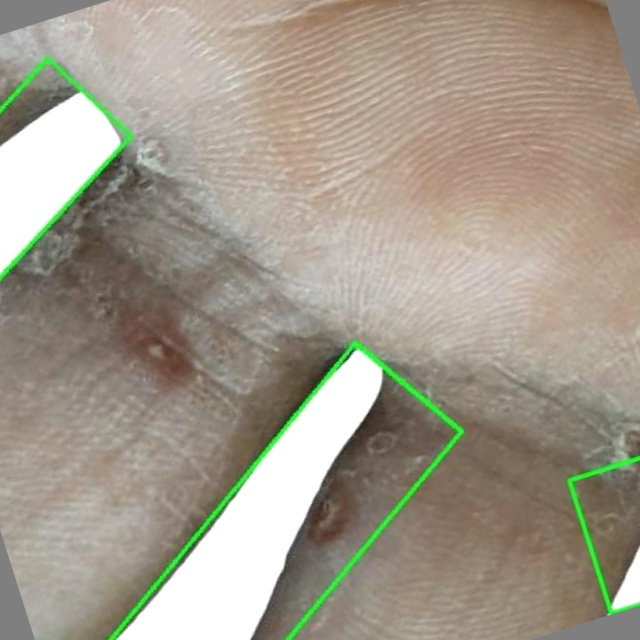Scabies: (109, 342, 462, 639)
